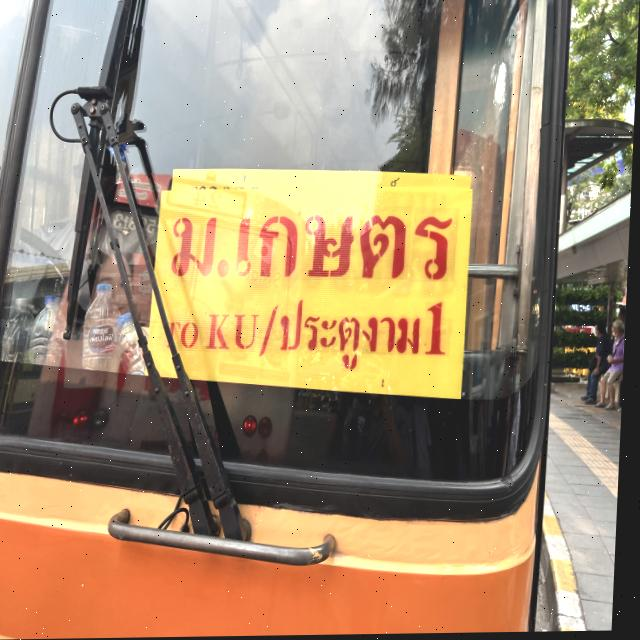BMTA-bus: (0, 0, 574, 640)
Destination-Sign-Extra-Bus-Expressway: (152, 185, 475, 404)
